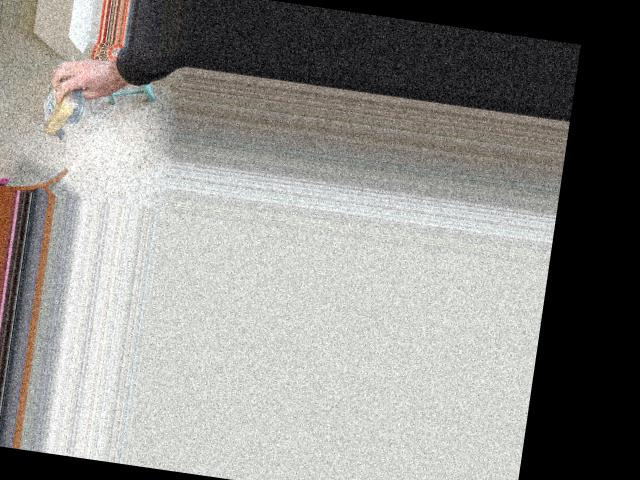cheese: (34, 62, 91, 144)
